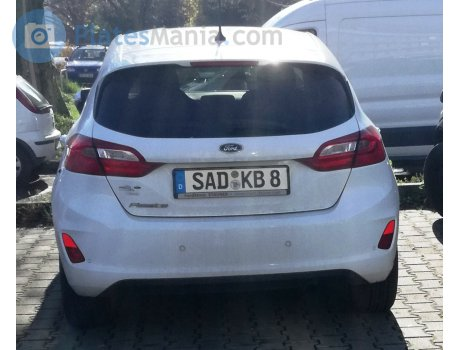License Plates: (190, 167, 283, 188)
